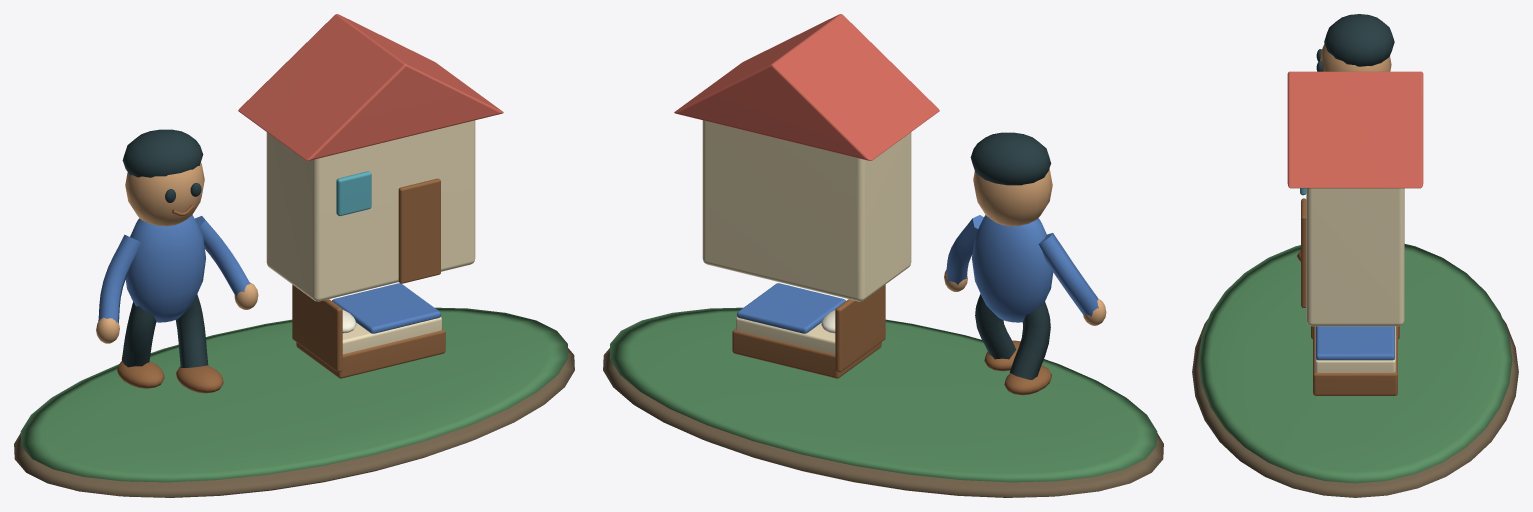
The model's file is visitor-hotel.glb.
The picture shows the model from 3 angles, left to right: view 1: azimuth 30°, elevation 25°; view 2: azimuth 150°, elevation 25°; view 3: azimuth 270°, elevation 25°; orthographic projection. The views are drawn at different scales.
Parts seen in each view (by area): view 1: visitor-hotel_surface_01, visitor-hotel_surface_06, visitor-hotel_surface_07, visitor-hotel_surface_05, visitor-hotel_surface_04, visitor-hotel_surface_00, visitor-hotel_surface_03, visitor-hotel_surface_02, visitor-hotel_surface_08; view 2: visitor-hotel_surface_01, visitor-hotel_surface_06, visitor-hotel_surface_07, visitor-hotel_surface_05, visitor-hotel_surface_00, visitor-hotel_surface_04, visitor-hotel_surface_03, visitor-hotel_surface_02; view 3: visitor-hotel_surface_01, visitor-hotel_surface_07, visitor-hotel_surface_06, visitor-hotel_surface_00, visitor-hotel_surface_03, visitor-hotel_surface_04, visitor-hotel_surface_05, visitor-hotel_surface_02.
Boxes of the visible parts, x1=… form: visitor-hotel_surface_01: x1=20, y1=307, x2=568, y2=482; visitor-hotel_surface_06: x1=266, y1=120, x2=475, y2=354; visitor-hotel_surface_07: x1=238, y1=14, x2=503, y2=160; visitor-hotel_surface_05: x1=98, y1=215, x2=440, y2=333; visitor-hotel_surface_04: x1=117, y1=178, x2=445, y2=393; visitor-hotel_surface_00: x1=14, y1=348, x2=574, y2=497; visitor-hotel_surface_03: x1=121, y1=129, x2=208, y2=367; visitor-hotel_surface_02: x1=96, y1=162, x2=258, y2=343; visitor-hotel_surface_08: x1=336, y1=171, x2=371, y2=216; visitor-hotel_surface_01: x1=609, y1=307, x2=1157, y2=482; visitor-hotel_surface_06: x1=702, y1=120, x2=911, y2=354; visitor-hotel_surface_07: x1=674, y1=14, x2=939, y2=160; visitor-hotel_surface_05: x1=737, y1=215, x2=1098, y2=333; visitor-hotel_surface_00: x1=603, y1=348, x2=1163, y2=497; visitor-hotel_surface_04: x1=732, y1=284, x2=1051, y2=395; visitor-hotel_surface_03: x1=970, y1=132, x2=1051, y2=379; visitor-hotel_surface_02: x1=944, y1=168, x2=1106, y2=325; visitor-hotel_surface_01: x1=1198, y1=244, x2=1512, y2=483; visitor-hotel_surface_07: x1=1287, y1=71, x2=1423, y2=188; visitor-hotel_surface_06: x1=1306, y1=188, x2=1404, y2=372; visitor-hotel_surface_00: x1=1192, y1=318, x2=1518, y2=497; visitor-hotel_surface_03: x1=1316, y1=14, x2=1394, y2=71; visitor-hotel_surface_04: x1=1297, y1=198, x2=1399, y2=395; visitor-hotel_surface_05: x1=1316, y1=326, x2=1394, y2=360; visitor-hotel_surface_02: x1=1320, y1=44, x2=1391, y2=71.
Size of the model in its own units: 4.56 by 2.97 by 2.5.
